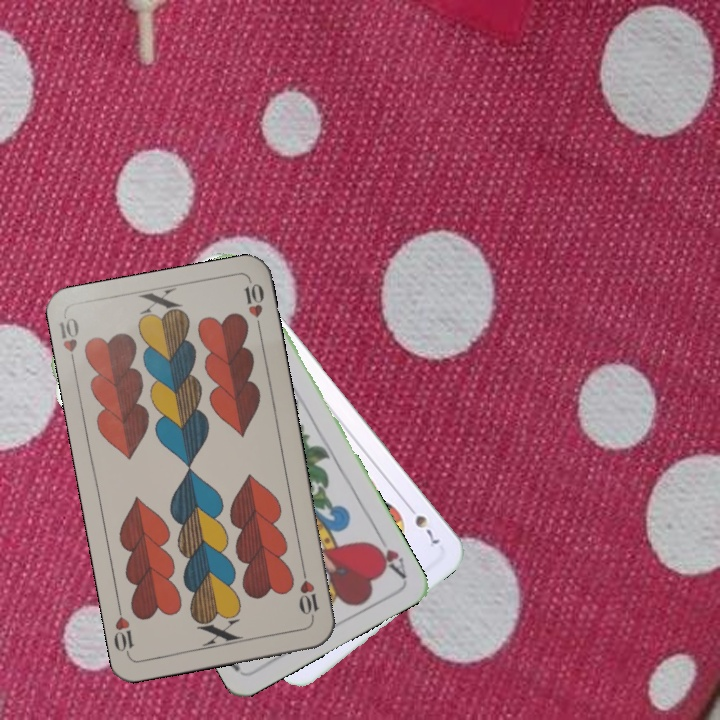H10: (55, 313, 82, 372), (295, 564, 321, 623)
HA: (366, 527, 409, 581)
S7: (402, 499, 443, 548)
